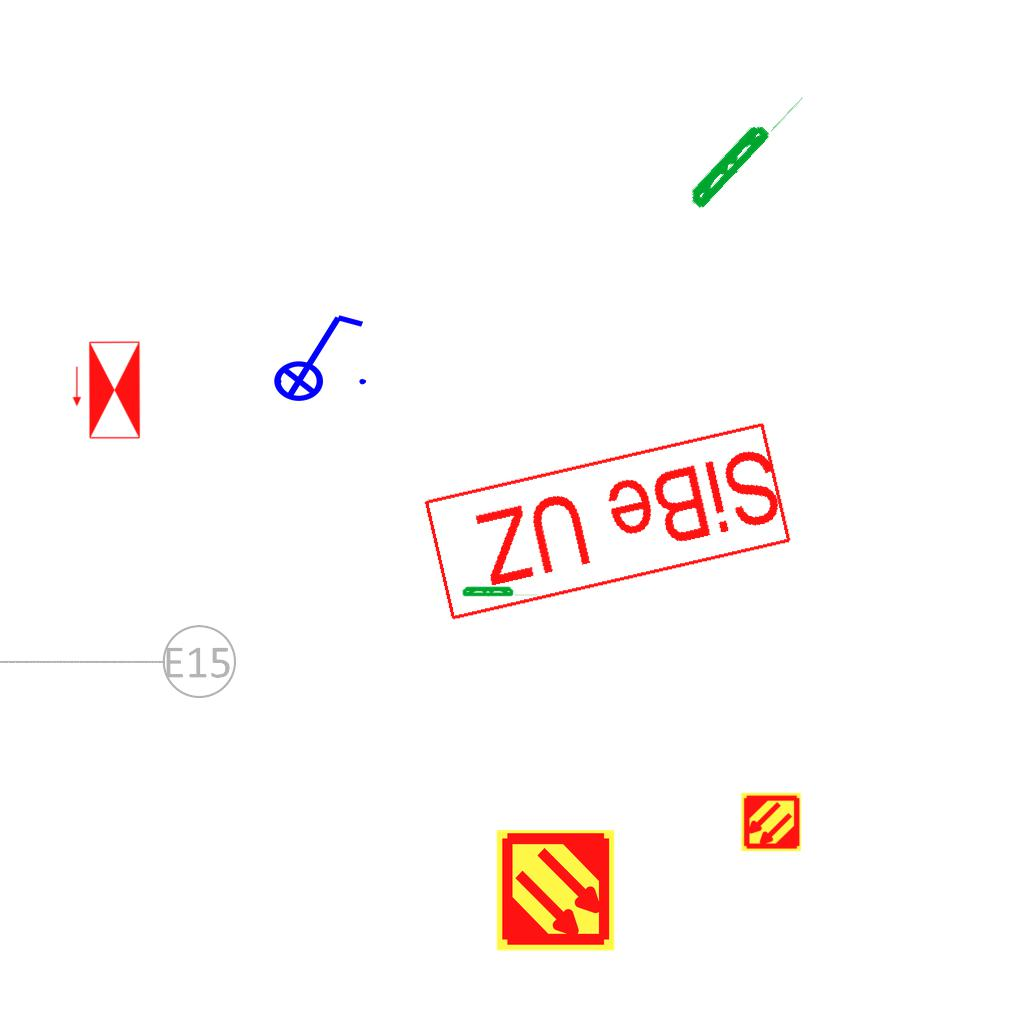ASR_Ansaugrauchmelder: (493, 828, 618, 953), (740, 791, 802, 853)
Ausschalter_beleuchtet: (260, 307, 372, 403)
Fluchtwegpiktogramm: (70, 338, 143, 442)
Sicherheitsleuchte_Wandeinbau: (682, 79, 809, 214), (461, 585, 540, 597)
Zentrale_Sicherheitsbeleuchtung: (417, 417, 796, 625)
